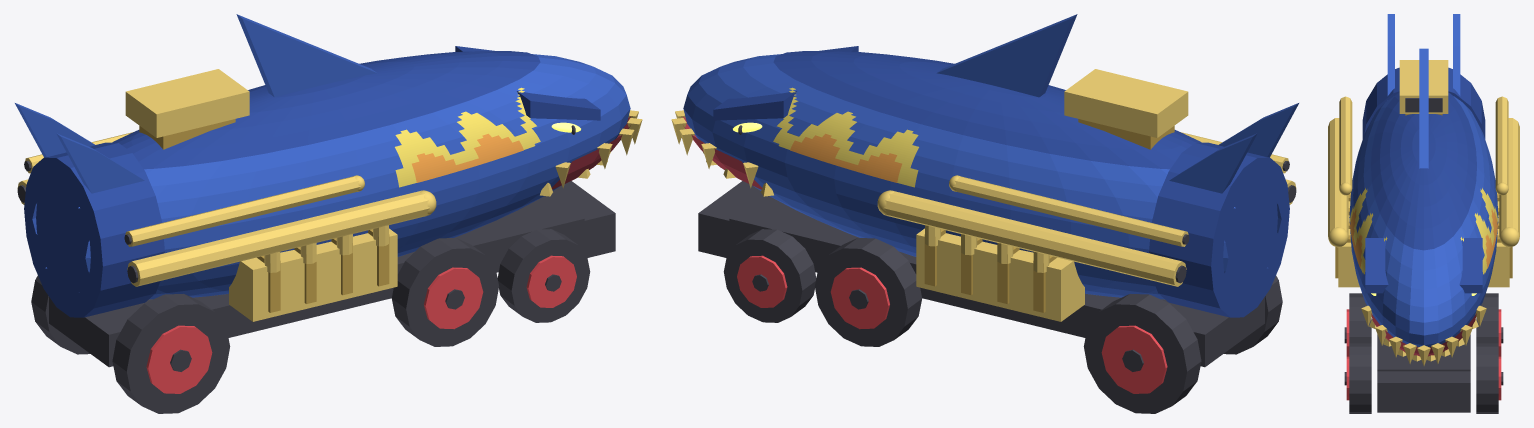
Rendered from Locomotive_Shark.fbx.
The picture shows the model from 3 angles, left to right: view 1: azimuth 30°, elevation 25°; view 2: azimuth 150°, elevation 25°; view 3: azimuth 270°, elevation 25°; orthographic projection. The views are drawn at different scales.
Parts seen in each view (by area): view 1: Locomotive_Shark; view 2: Locomotive_Shark; view 3: Locomotive_Shark.
Boxes of the visible parts, x1,y1,x2,y2 form: Locomotive_Shark: (15,14,642,413); Locomotive_Shark: (671,14,1298,413); Locomotive_Shark: (1328,14,1519,413).
Size of the model in its own units: 5.81 by 3.1 by 2.06.
